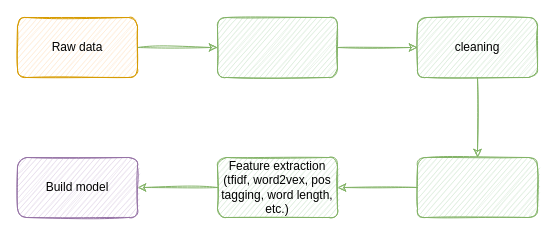
The diagram is 555 pixels wide and 235 high, and some of its shapes have lost their labels. The shapes that lost their labels are listed below. From the top down, each one's centre as x and y in pixels, then its label:
At point 277,47: "Segmentation (not necessary for some languages)".
At point 477,187: "normalizatrion (including stemming, lemmmazation)".
